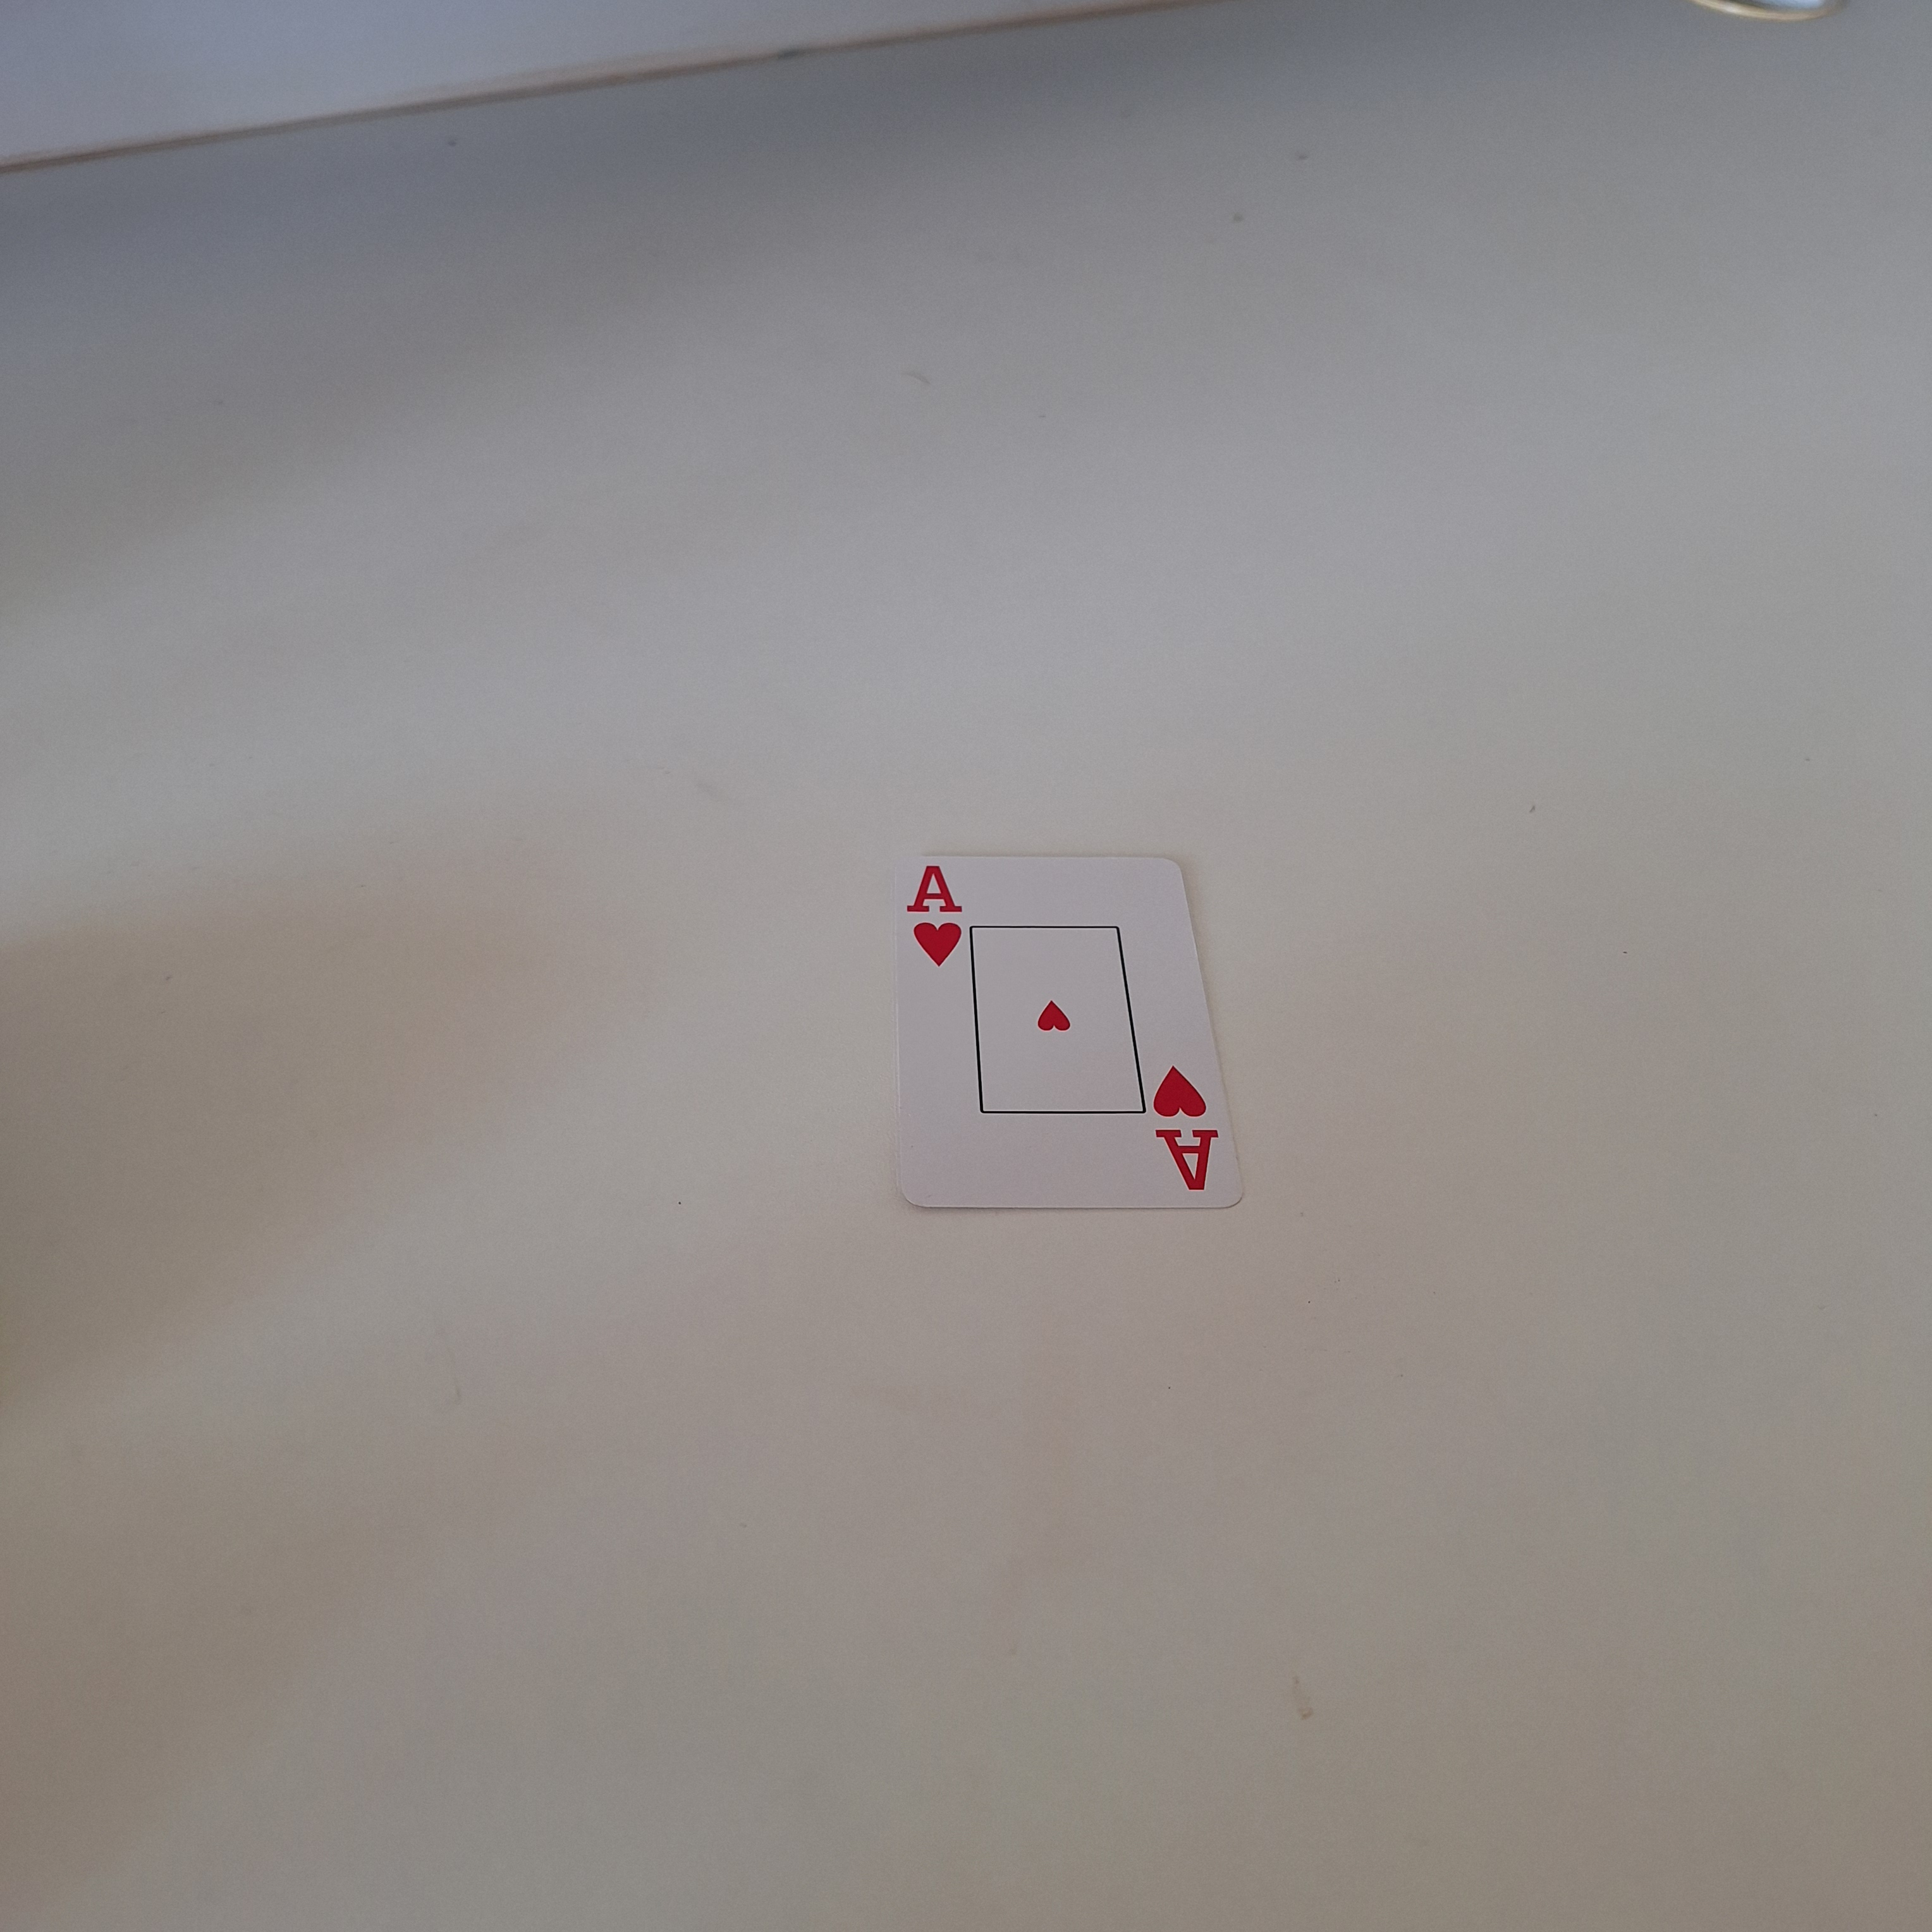AC: (1143, 1054, 1230, 1201), (897, 855, 973, 975)
